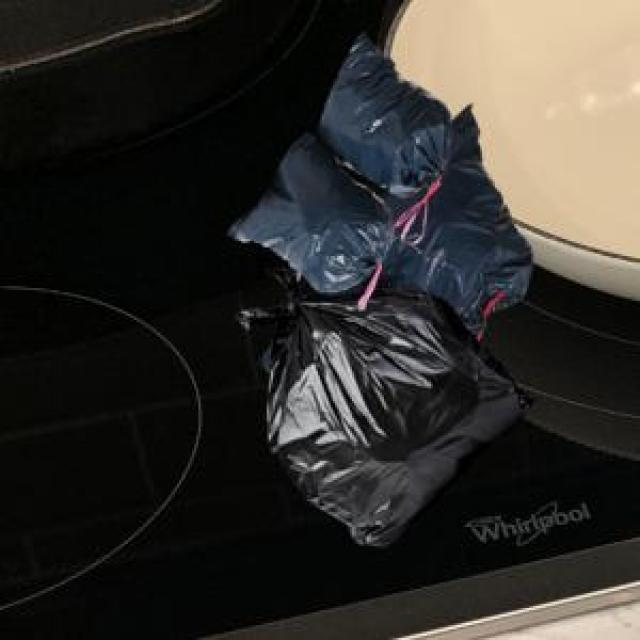waste: (230, 38, 531, 547)
